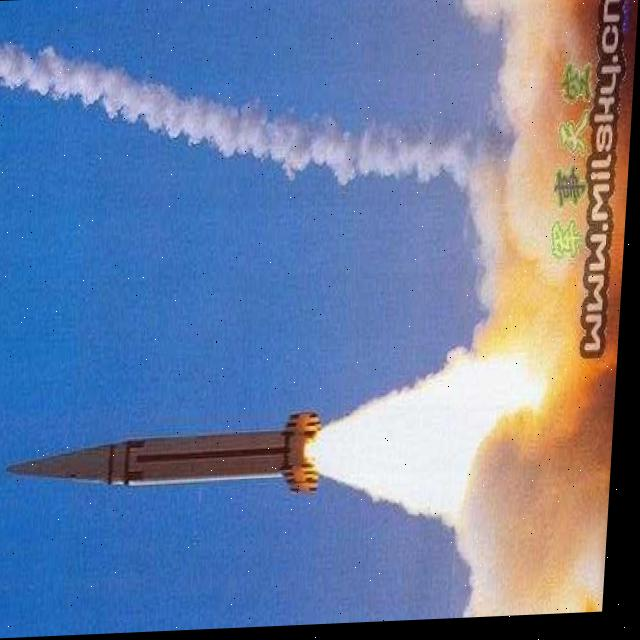missile: (0, 391, 339, 511)
